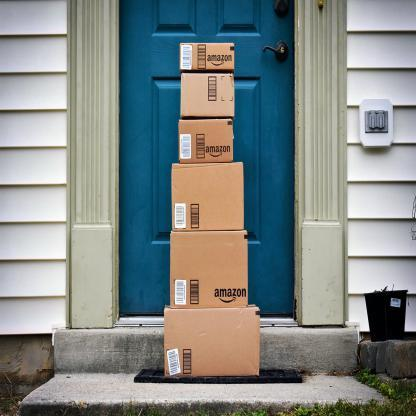package: (162, 302, 262, 380), (168, 227, 251, 307), (169, 162, 248, 232), (175, 117, 235, 164), (178, 74, 235, 120), (178, 39, 236, 74)
